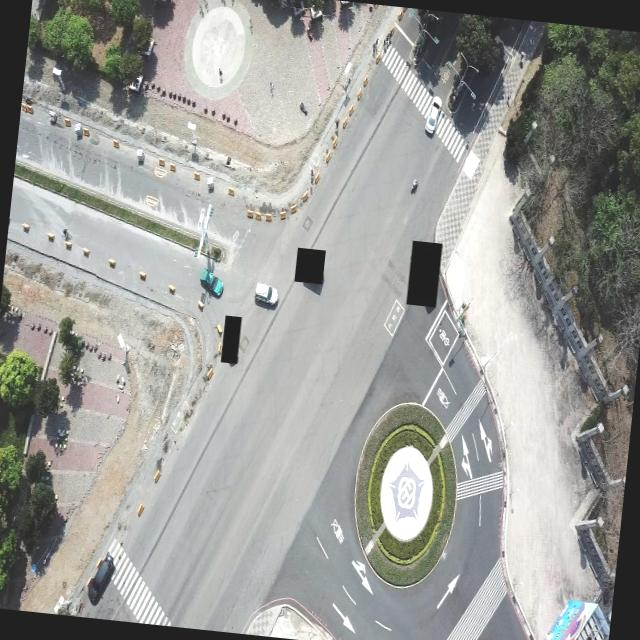car: (86, 550, 114, 604), (423, 93, 442, 134), (253, 282, 280, 308), (198, 270, 223, 296)
